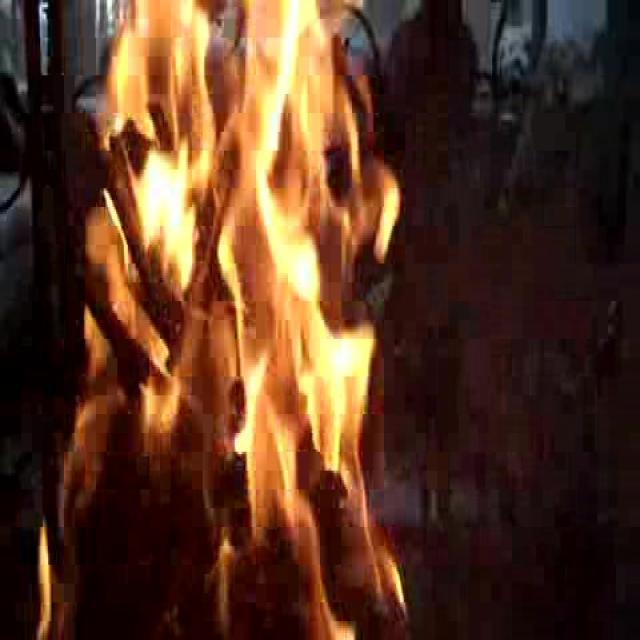Fire: (31, 8, 404, 640)
